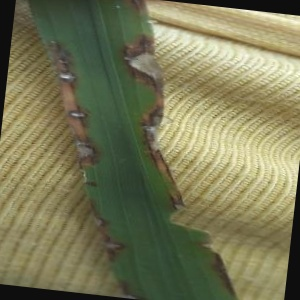Brown_Spot: (119, 30, 164, 87), (134, 98, 171, 159), (41, 42, 79, 90), (69, 131, 104, 177), (99, 232, 127, 260), (69, 98, 95, 126), (169, 190, 194, 212), (92, 210, 108, 228)
